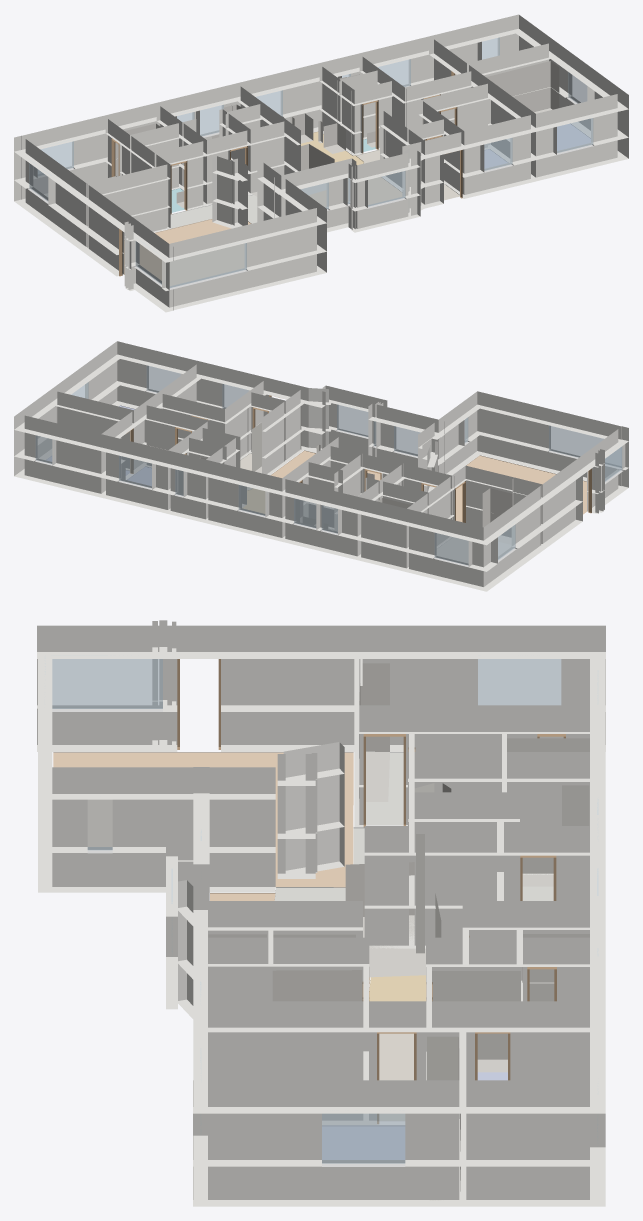
3 views of the same model, one above another, from view 1: azimuth 30°, elevation 25°; view 2: azimuth 150°, elevation 25°; view 3: azimuth 270°, elevation 25° (orthographic). The views are drawn at different scales.
Visible parts, largest first — view 1: walls, floor_8_Living_Room, furniture_7_closet, window_14, window_15, window_3, floor_7_Undefined, floor_6_Living_Room, window_2, furniture_28_fireplace, window_20, floor_15_Bed_Room (+8 smaller); view 2: walls, floor_8_Living_Room, window_14, furniture_9_closet, window_0, window_12, window_15, floor_0_Undefined, window_8, window_3, window_4, window_7 (+8 smaller); view 3: walls, floor_8_Living_Room, window_20, window_5, furniture_6_closet, window_1, furniture_28_fireplace, furniture_10_closet, floor_15_Bed_Room, furniture_9_closet, floor_4_Entry, floor_0_Undefined (+9 smaller).
Boxes of the visible parts, left/top/right/bottom form: walls: left=14, top=14, right=628, bottom=312; floor_8_Living_Room: left=124, top=219, right=251, bottom=285; furniture_7_closet: left=486, top=61, right=559, bottom=113; window_14: left=169, top=243, right=246, bottom=287; window_15: left=368, top=171, right=405, bottom=206; window_3: left=557, top=118, right=593, bottom=152; floor_7_Undefined: left=170, top=194, right=257, bottom=228; floor_6_Living_Room: left=309, top=177, right=401, bottom=206; window_2: left=484, top=138, right=512, bottom=170; furniture_28_fireplace: left=251, top=144, right=334, bottom=196; window_20: left=135, top=241, right=163, bottom=284; floor_15_Bed_Room: left=557, top=123, right=590, bottom=150; walls: left=14, top=341, right=628, bottom=591; floor_8_Living_Room: left=456, top=455, right=586, bottom=521; window_14: left=549, top=425, right=621, bottom=467; furniture_9_closet: left=482, top=488, right=540, bottom=544; window_0: left=434, top=533, right=468, bottom=565; window_12: left=119, top=455, right=151, bottom=488; window_15: left=337, top=404, right=368, bottom=436; floor_0_Undefined: left=437, top=537, right=511, bottom=563; window_8: left=238, top=485, right=265, bottom=515; window_3: left=146, top=365, right=180, bottom=392; window_4: left=394, top=426, right=420, bottom=456; window_7: left=294, top=498, right=316, bottom=528; walls: left=37, top=620, right=605, bottom=1206; floor_8_Living_Room: left=53, top=752, right=353, bottom=887; window_20: left=52, top=659, right=162, bottom=708; window_5: left=322, top=1113, right=405, bottom=1163; furniture_6_closet: left=432, top=971, right=520, bottom=1072; window_1: left=478, top=659, right=561, bottom=705; furniture_28_fireplace: left=345, top=862, right=441, bottom=977; furniture_10_closet: left=272, top=970, right=362, bottom=1001; floor_15_Bed_Room: left=322, top=1125, right=404, bottom=1159; furniture_9_closet: left=359, top=663, right=389, bottom=801; floor_4_Entry: left=379, top=1033, right=413, bottom=1120; floor_0_Undefined: left=366, top=752, right=403, bottom=825.
Size of the model in its own units: 22.61 by 2.72 by 11.65.
